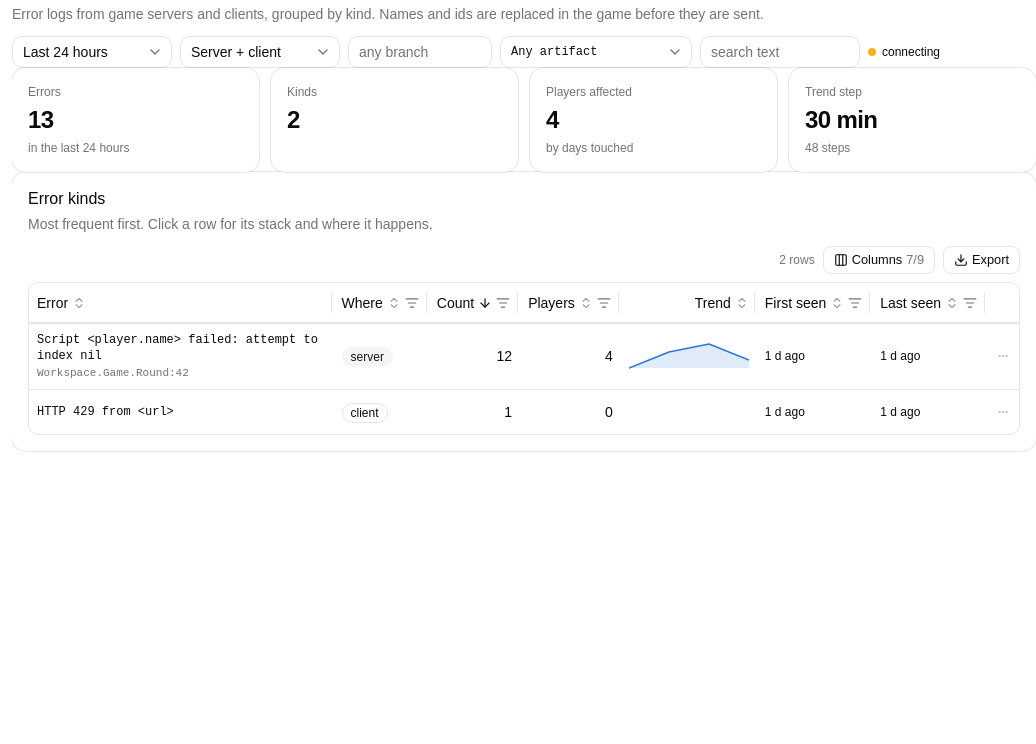
Errors page › lists kinds with counts, players, side and when; a click shows the sample stack and where it happens
Check: the text "Script <player.name> failed: attempt to index nil" is shown, box [37,332,326,364]
Check: the text "Workspace.Game.Round:42" is shown, box [37,366,189,378]
Click the text "Script <player.name> failed: attempt to index nil" at x=524, y=356, box [29,323,1019,390]
(page scrolled)
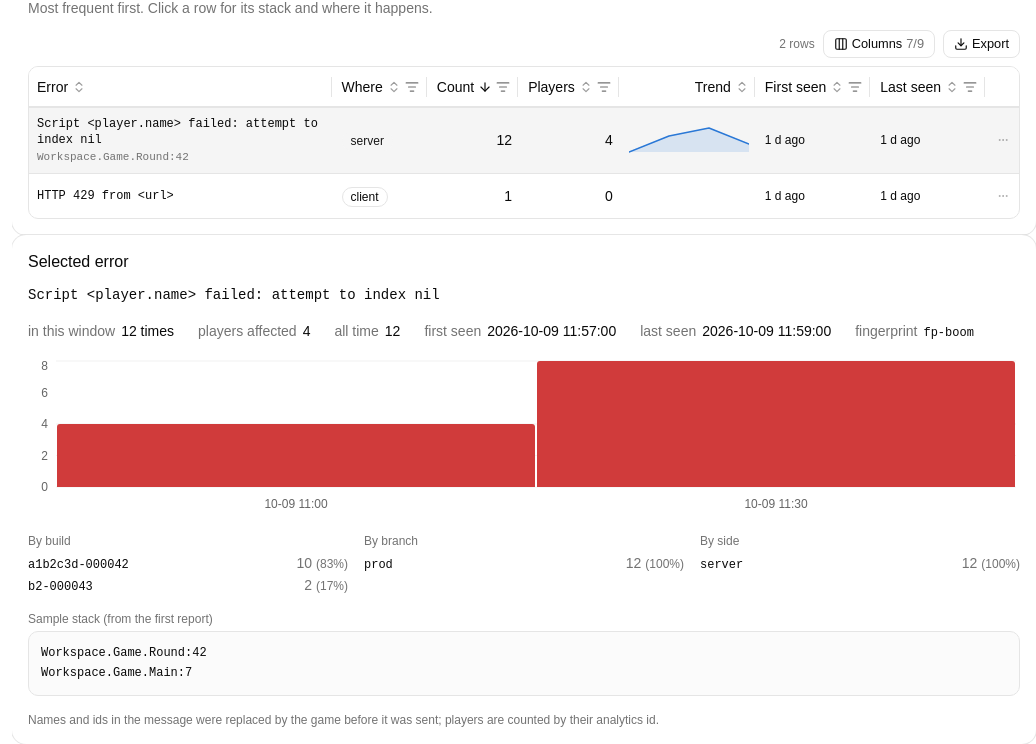
Check: the text "Sample stack (from the first report)" is shown, box [28,612,213,626]
Check: the text "Workspace.Game.Main:7" is shown, box [41,646,207,680]
Check: the text "a1b2c3d-000042" is shown, box [28,557,129,573]
